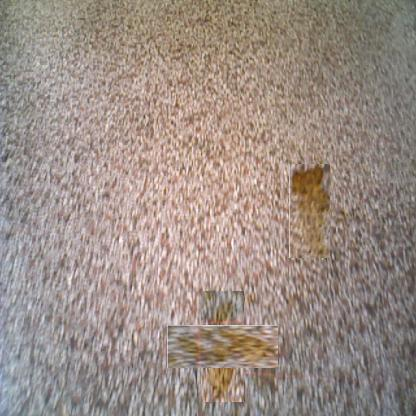liquid: (184, 308, 261, 385), (289, 164, 330, 258)
